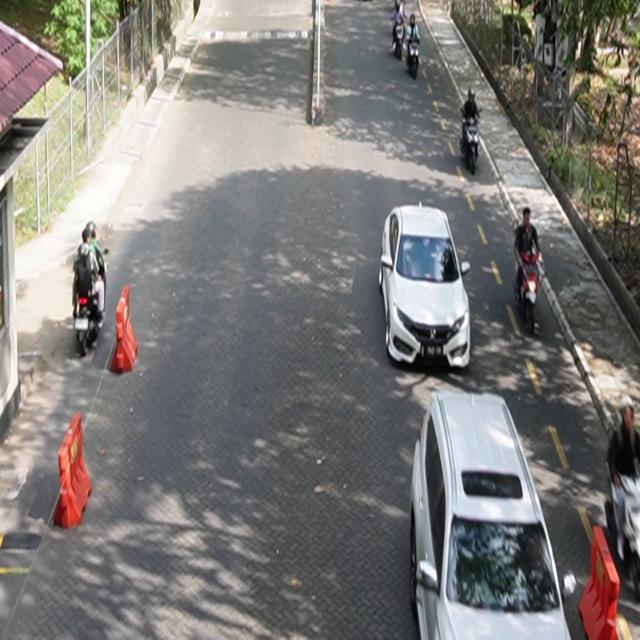car: (410, 391, 574, 640), (379, 201, 472, 371)
